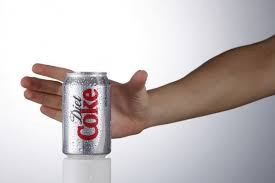can: (58, 69, 114, 161)
